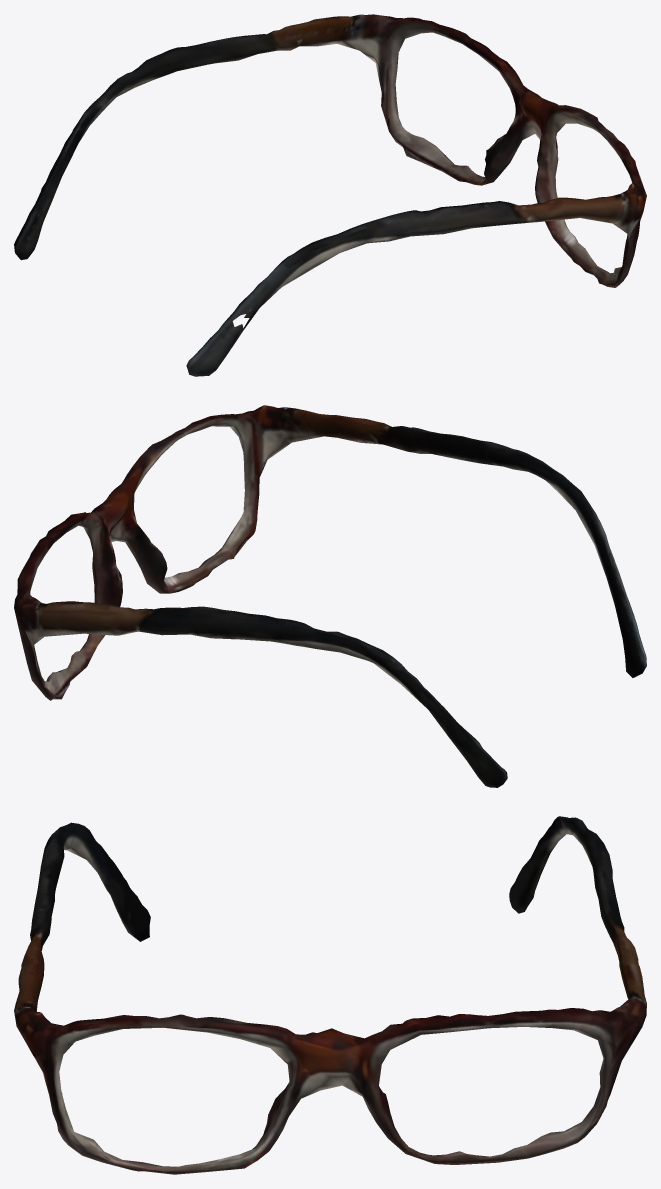
The model's file is Nwader.glb.
3 views of the same model, one above another, from view 1: azimuth 30°, elevation 25°; view 2: azimuth 150°, elevation 25°; view 3: azimuth 270°, elevation 25° (orthographic). The views are drawn at different scales.
Visible parts, largest first — view 1: /ObjectCapture/Geometry/Mesh; view 2: /ObjectCapture/Geometry/Mesh; view 3: /ObjectCapture/Geometry/Mesh.
Boxes of the visible parts, <box> form: /ObjectCapture/Geometry/Mesh: <box>14,14,646,376</box>; /ObjectCapture/Geometry/Mesh: <box>14,405,646,787</box>; /ObjectCapture/Geometry/Mesh: <box>14,816,646,1174</box>.
Bounding box in the file's own units: 0.1447 × 0.046 × 0.1415.
Materials: 1 (1 with a texture image).
